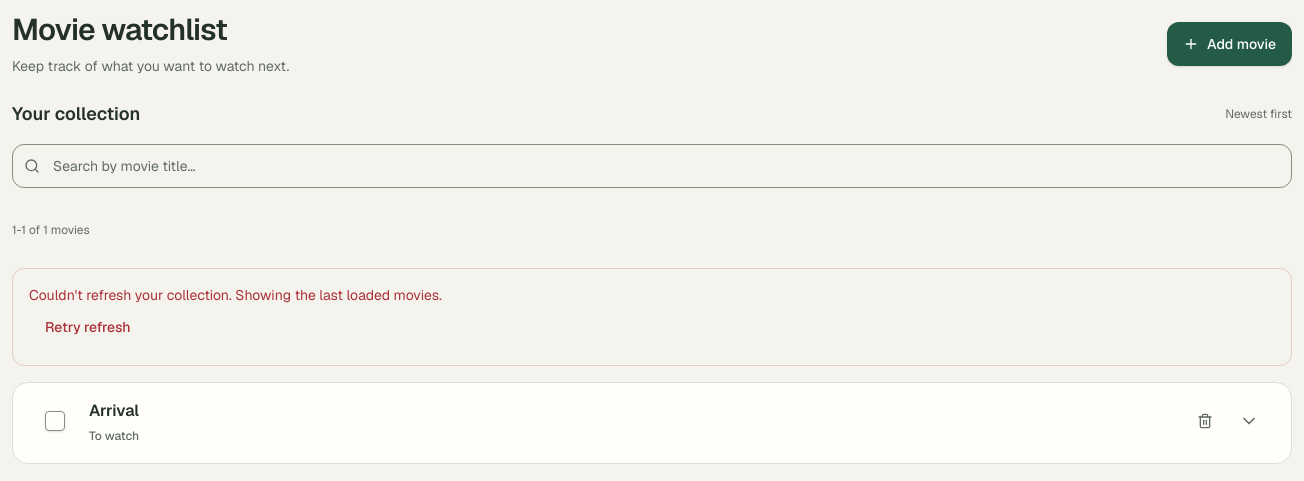
Test: MovieWatchlist › keeps cached movies visible when refreshing fails
This screenshot has width=1304, height=481.
Expected: the heading "Arrival" is shown, [89,400,139,421]
Expected: the message shows "Showing the last loaded movies.", [29,286,442,304]
Step 1. Click the button "Retry refresh" → (88, 327), box [29,305,147,349]
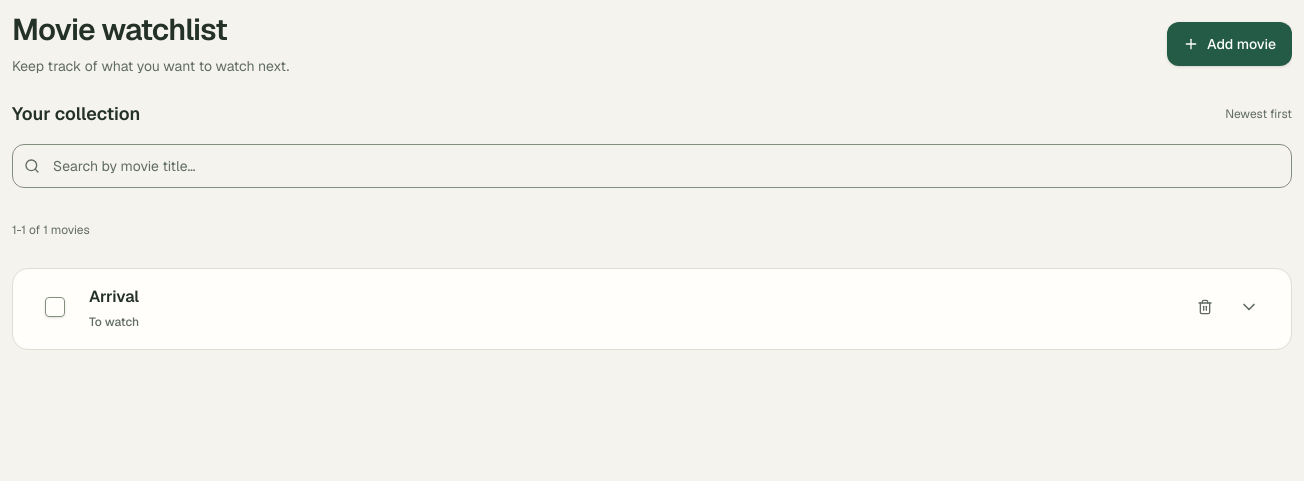
Result: the message "Couldn't refresh your collection. Showing the last loaded movies. Retry refresh" is gone
